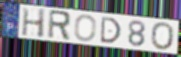8: (127, 19, 147, 48)
D: (99, 16, 123, 44)
H: (21, 7, 47, 40)
O: (150, 22, 176, 52), (73, 14, 98, 43)
R: (46, 9, 72, 42)
